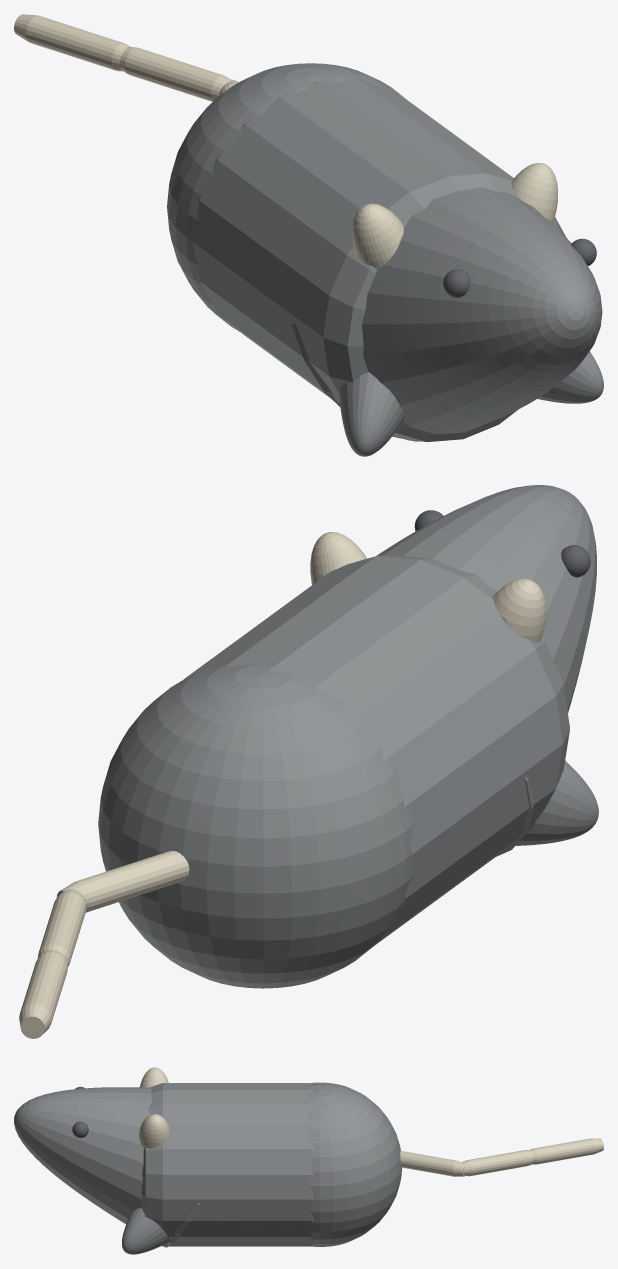
File: rathew_1.glb
The picture shows the model from 3 angles, top to bottom: view 1: azimuth 30°, elevation 25°; view 2: azimuth 150°, elevation 25°; view 3: azimuth 270°, elevation 25°; orthographic projection. The views are drawn at different scales.
Visible parts, largest first — view 1: Mesh_Mesh_head_geo.001_lambert2SG.001; view 2: Mesh_Mesh_head_geo.001_lambert2SG.001; view 3: Mesh_Mesh_head_geo.001_lambert2SG.001.
Boxes of the visible parts, x1,y1,x2,y2 form: Mesh_Mesh_head_geo.001_lambert2SG.001: (14,14,603,456); Mesh_Mesh_head_geo.001_lambert2SG.001: (19,485,598,1038); Mesh_Mesh_head_geo.001_lambert2SG.001: (14,1067,603,1254).
Size of the model in its own units: 10 by 10 by 35.73.
